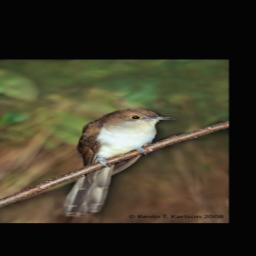Cuckoo: (62, 108, 173, 217)
